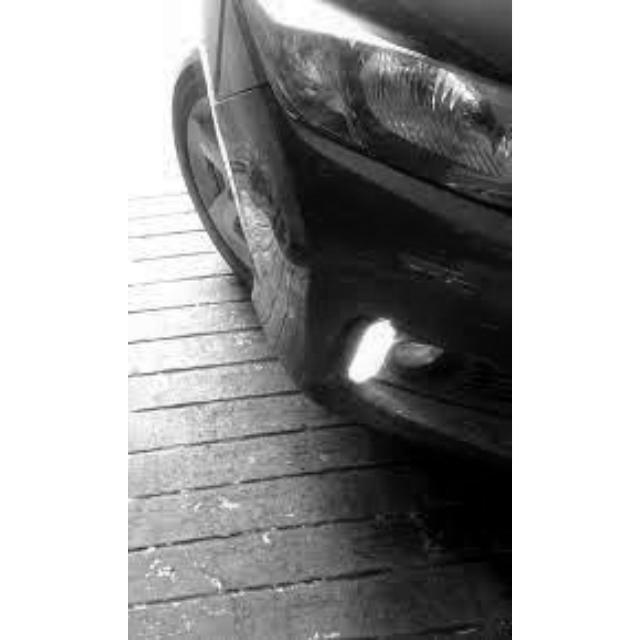front-bumper-dent: (164, 86, 510, 454)
